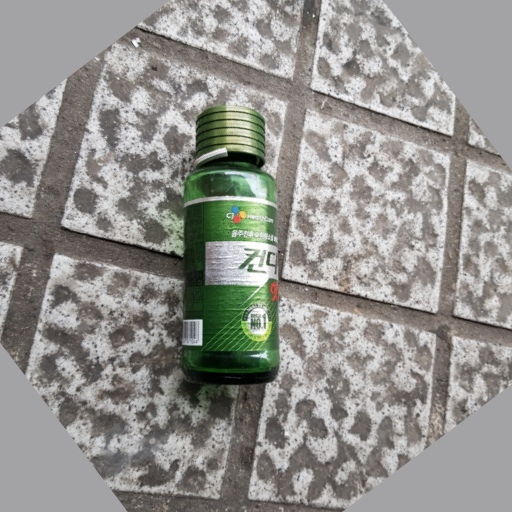Glass_4: (174, 103, 278, 389)
